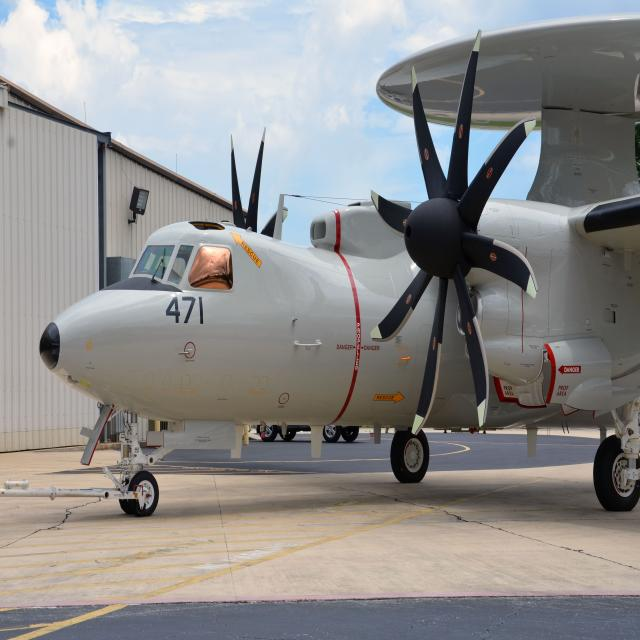MIL_Plane: (295, 12, 384, 514)
